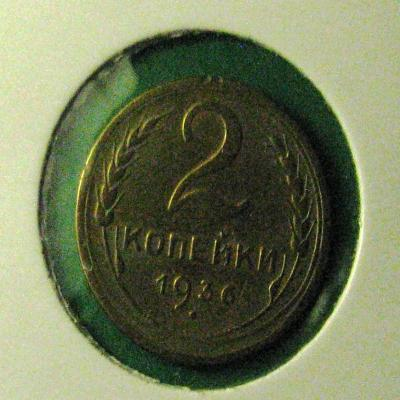numismatics: (76, 76, 326, 369)
